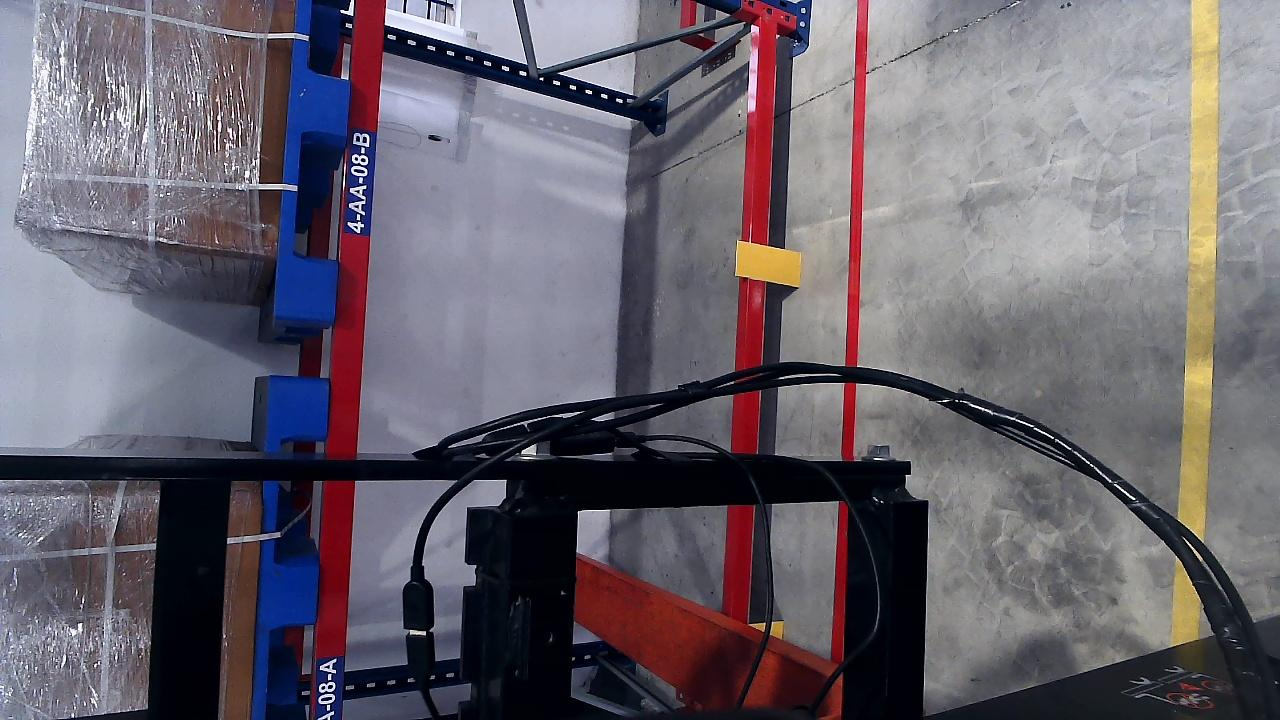h_rack: (322, 0, 390, 481), (742, 16, 780, 354), (312, 481, 358, 719)
orange_strip: (735, 241, 802, 287)
red_line: (844, 3, 868, 365)
small_pallet: (269, 0, 365, 321)
yellow_line: (1177, 0, 1222, 625)
